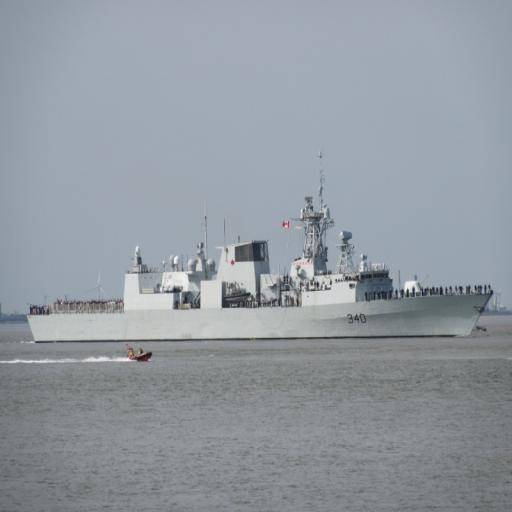Fragata: (26, 143, 498, 347)
